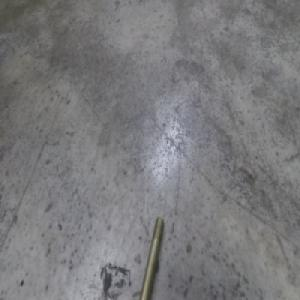Bolt: (137, 212, 163, 300)
